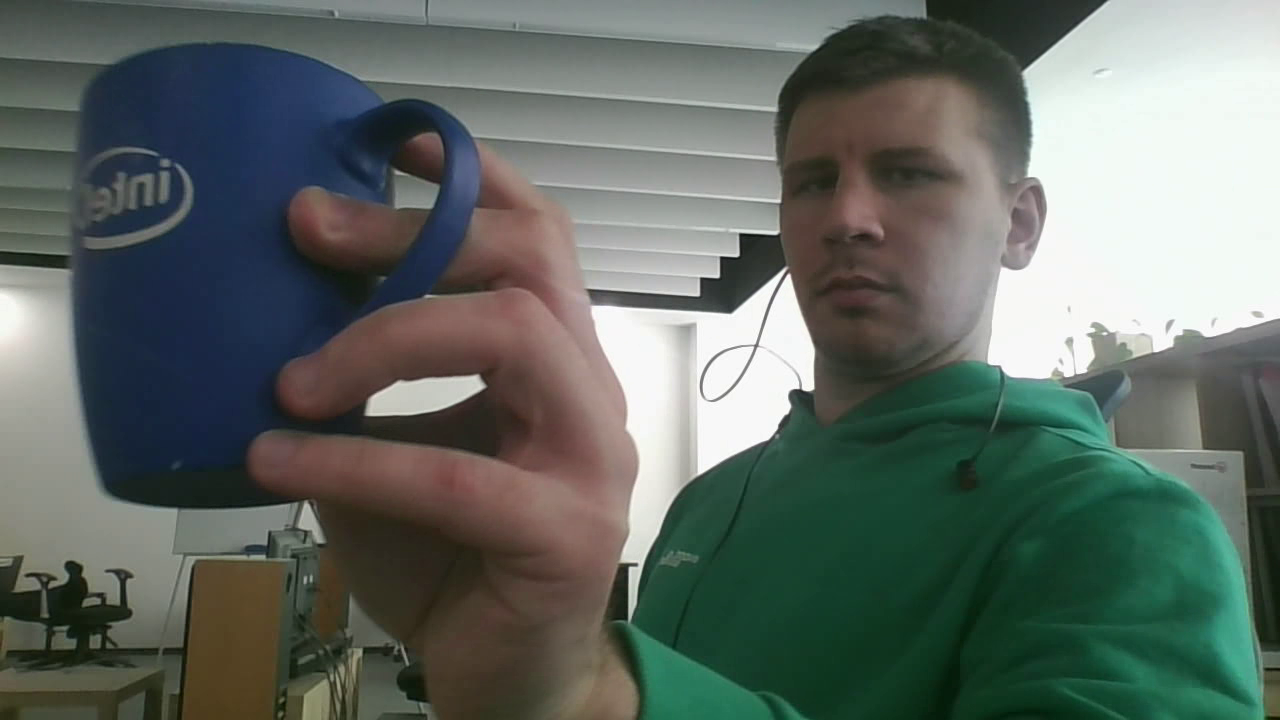cup: (70, 43, 474, 512)
